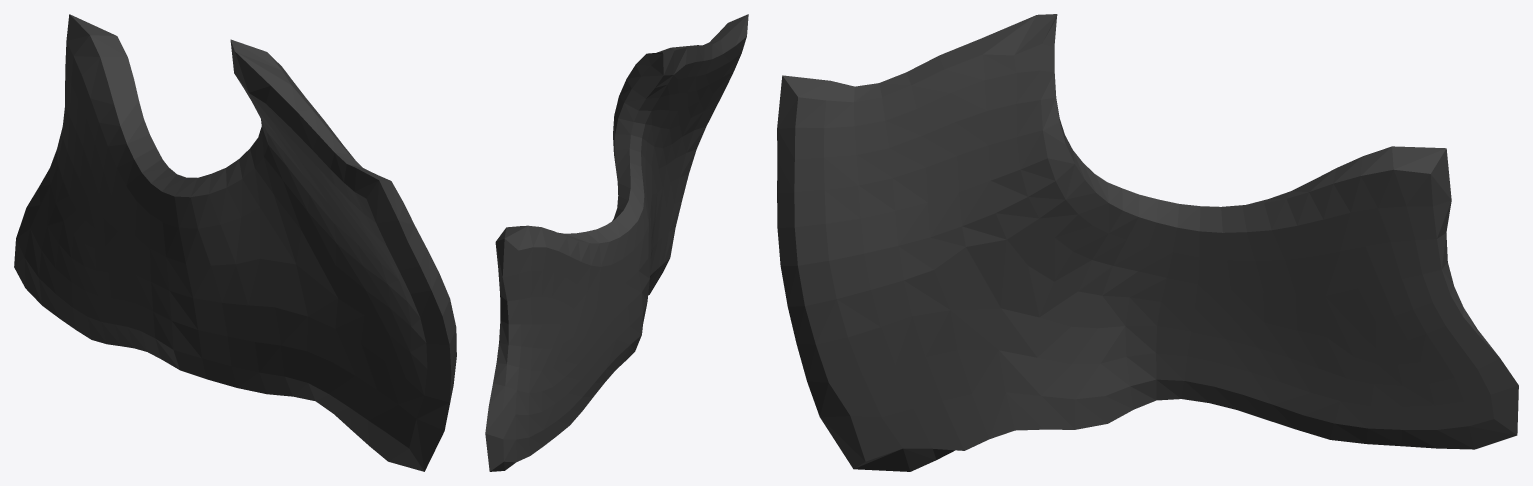
File: Scutiform_cart_1.glb
3 views of the same model, side by side, from view 1: azimuth 30°, elevation 25°; view 2: azimuth 150°, elevation 25°; view 3: azimuth 270°, elevation 25° (orthographic). The views are drawn at different scales.
Parts seen in each view (by area): view 1: Scutiform_cart_1; view 2: Scutiform_cart_1; view 3: Scutiform_cart_1.
Part boxes in pixels (x1=…): Scutiform_cart_1: x1=14, y1=14, x2=456, y2=471; Scutiform_cart_1: x1=485, y1=14, x2=748, y2=471; Scutiform_cart_1: x1=777, y1=14, x2=1518, y2=471.
Bounding box in the file's own units: 0.0849 × 0.253 × 0.3952.
1 material, 1 textured.
